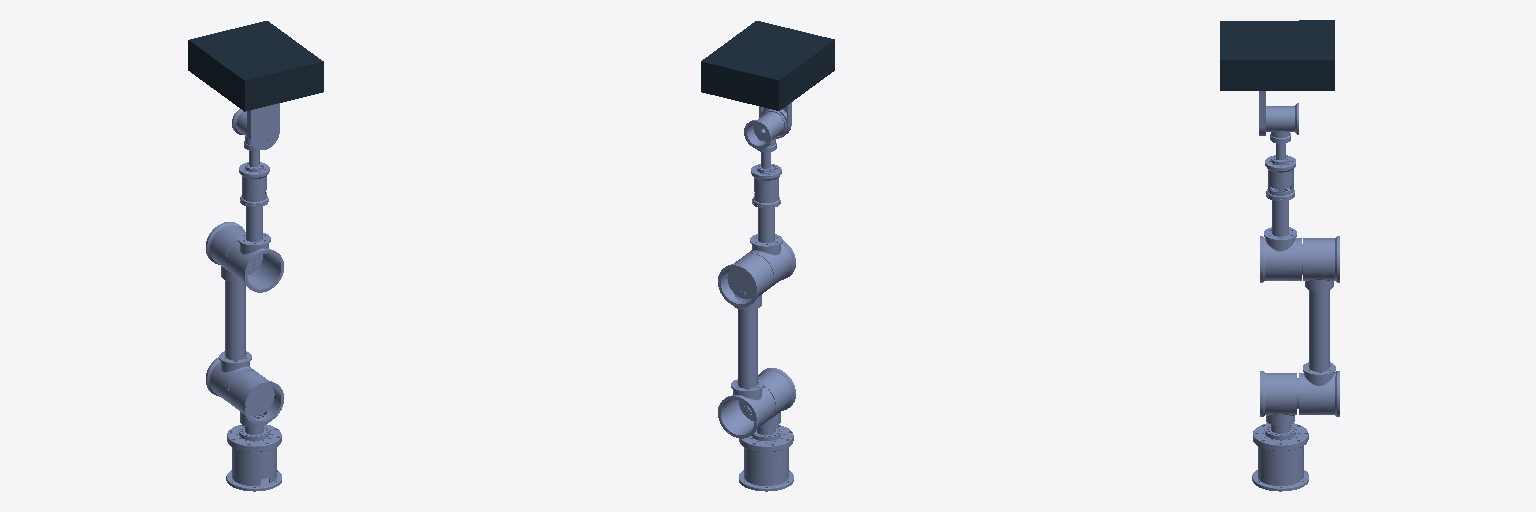
robot.urdf — Robot_to_URDF_New_Pakka:
<?xml version="1.0" ?>
<robot name="Robot_to_URDF_New_Pakka">
  <material name="Steel">
    <color rgba="0.541 0.596 0.749 1.0"/>
  </material>
  <material name="Stainless_Steel_304">
    <color rgba="0.541 0.596 0.749 1.0"/>
  </material>
  <link name="world"/>
  <joint name="world_to_base_link" type="fixed">
    <parent link="world"/>
    <child link="base_link"/>
    <origin rpy="0 0 0" xyz="0 0 0"/>
  </joint>
  <link name="J2J3_Shoulder">
    <inertial>
      <origin rpy="0 0 0" xyz="0.051916 -0.000049 0.158128"/>
      <mass value="3.446640"/>
      <inertia ixx="4.362083e-02" ixy="9.815616e-07" ixz="-1.144201e-03" iyy="4.371374e-02" iyz="1.314195e-05" izz="4.606072e-03"/>
    </inertial>
    <visual>
      <origin rpy="0 0 0" xyz="0.053972 0.000000 0.077000"/>
      <geometry>
        <mesh filename="package://Robot_to_URDF_New_Pakka_description/meshes/J3J4_Elbow/J2J3_Shoulder.dae" scale="1 1 1"/>
      </geometry>
      <material name="Steel"/>
    </visual>
    <collision>
      <origin rpy="0 0 0" xyz="0.053972 0.000000 0.077000"/>
      <geometry>
        <mesh filename="package://Robot_to_URDF_New_Pakka_description/meshes/J3J4_Elbow/J2J3_Shoulder_collision.stl" scale="0.01 0.01 0.01"/>
      </geometry>
    </collision>
  </link>
  <link name="L70IE_Finger">
    <inertial>
      <origin rpy="0 0 0" xyz="0.129200 -0.000053 0.034929"/>
      <mass value="1.714129"/>
      <inertia ixx="2.168825e-03" ixy="-1.977919e-06" ixz="-9.238266e-04" iyy="4.945738e-03" iyz="2.017023e-06" izz="4.814753e-03"/>
    </inertial>
    <visual>
      <origin rpy="0 0 0" xyz="0.109800 -0.000000 0.050000"/>
      <geometry>
        <mesh filename="package://Robot_to_URDF_New_Pakka_description/meshes/J6_holder/L70IE_Finger.dae" scale="1 1 1"/>
      </geometry>
      <material name="Stainless_Steel_304"/>
    </visual>
    <collision>
      <origin rpy="0 0 0" xyz="0.109800 -0.000000 0.050000"/>
      <geometry>
        <mesh filename="package://Robot_to_URDF_New_Pakka_description/meshes/J6_holder/L70IE_Finger_collision.stl" scale="0.01 0.01 0.01"/>
      </geometry>
    </collision>
  </link>
  <joint name="ee_rotation_joint" type="revolute">
    <parent link="L70IE_Finger"/>
    <child link="end_effector_box_link"/>
    <origin rpy="0 1.5708 0" xyz="0.150 0 0.050"/>
    <axis xyz="0 0 1"/>
    <limit effort="10.0" lower="-3.14159" upper="3.14159" velocity="3.14"/>
    <dynamics damping="1.0" friction="0.1"/>
  </joint>
  <link name="end_effector_box_link">
    <inertial>
      <origin rpy="0 0 0" xyz="0 0 0.050"/>
      <mass value="1.2"/>
      <inertia ixx="8.129e-03" ixy="0" ixz="0" iyy="1.182e-02" iyz="0" izz="1.795e-02"/>
    </inertial>
    <visual>
      <origin rpy="0 0 0" xyz="0 0 0.050"/>
      <geometry>
        <box size="0.329 0.267 0.100"/>
      </geometry>
      <material name="EE_Grey">
        <color rgba="0.17 0.23 0.29 0.9"/>
      </material>
    </visual>
    <collision>
      <origin rpy="0 0 0" xyz="0 0 0.050"/>
      <geometry>
        <box size="0.359 0.297 0.130"/>
      </geometry>
    </collision>
  </link>
  <link name="base_link">
    <inertial>
      <origin rpy="0 0 0" xyz="-0.000000 0.000148 0.020775"/>
      <mass value="10.528007"/>
      <inertia ixx="3.546454e-02" ixy="-3.583128e-11" ixz="-4.191711e-11" iyy="3.556442e-02" iyz="1.226315e-04" izz="2.879027e-02"/>
    </inertial>
    <visual>
      <origin rpy="0 0 0" xyz="0.000000 0.000000 0.000000"/>
      <geometry>
        <mesh filename="package://Robot_to_URDF_New_Pakka_description/meshes/Robot_Assembly_URDF_New/base_link.dae" scale="1 1 1"/>
      </geometry>
      <material name="Steel"/>
    </visual>
    <collision>
      <origin rpy="0 0 0" xyz="0.000000 0.000000 0.000000"/>
      <geometry>
        <mesh filename="package://Robot_to_URDF_New_Pakka_description/meshes/Robot_Assembly_URDF_New/base_link_collision.stl" scale="0.01 0.01 0.01"/>
      </geometry>
    </collision>
  </link>
  <link name="Wrist_Motor">
    <inertial>
      <origin rpy="0 0 0" xyz="0.010896 -0.000044 0.108189"/>
      <mass value="2.109552"/>
      <inertia ixx="4.701895e-03" ixy="-2.639002e-06" ixz="-5.009290e-04" iyy="5.708233e-03" iyz="2.609188e-06" izz="2.625985e-03"/>
    </inertial>
    <visual>
      <origin rpy="0 0 0" xyz="-0.015700 0.000000 0.130000"/>
      <geometry>
        <mesh filename="package://Robot_to_URDF_New_Pakka_description/meshes/Robot_Assembly_URDF_New/Wrist_Motor.dae" scale="1 1 1"/>
      </geometry>
      <material name="Stainless_Steel_304"/>
    </visual>
    <collision>
      <origin rpy="0 0 0" xyz="-0.015700 0.000000 0.130000"/>
      <geometry>
        <mesh filename="package://Robot_to_URDF_New_Pakka_description/meshes/Robot_Assembly_URDF_New/Wrist_Motor_collision.stl" scale="0.01 0.01 0.01"/>
      </geometry>
    </collision>
  </link>
  <link name="L110I_Shoulder">
    <inertial>
      <origin rpy="0 0 0" xyz="0.000000 -0.109833 0.011323"/>
      <mass value="6.625323"/>
      <inertia ixx="1.448067e-02" ixy="-1.914920e-08" ixz="-1.120154e-08" iyy="9.292438e-03" iyz="6.850439e-04" izz="1.576078e-02"/>
    </inertial>
    <visual>
      <origin rpy="0 0 0" xyz="-0.000000 -0.119000 -0.023000"/>
      <geometry>
        <mesh filename="package://Robot_to_URDF_New_Pakka_description/meshes/Robot_Assembly_URDF_New/L110I_Shoulder.dae" scale="1 1 1"/>
      </geometry>
      <material name="Steel"/>
    </visual>
    <collision>
      <origin rpy="0 0 0" xyz="-0.000000 -0.119000 -0.023000"/>
      <geometry>
        <mesh filename="package://Robot_to_URDF_New_Pakka_description/meshes/Robot_Assembly_URDF_New/L110I_Shoulder_collision.stl" scale="0.01 0.01 0.01"/>
      </geometry>
    </collision>
  </link>
  <link name="L110I_shoulder_2">
    <inertial>
      <origin rpy="0 0 0" xyz="-0.000000 0.332413 -0.045103"/>
      <mass value="9.267654"/>
      <inertia ixx="2.063923e-01" ixy="1.193072e-08" ixz="1.229002e-08" iyy="1.345004e-02" iyz="-4.638621e-03" izz="2.074487e-01"/>
    </inertial>
    <visual>
      <origin rpy="0 0 0" xyz="0.000000 0.426000 -0.076972"/>
      <geometry>
        <mesh filename="package://Robot_to_URDF_New_Pakka_description/meshes/Robot_Assembly_URDF_New/L110I_shoulder_2.dae" scale="1 1 1"/>
      </geometry>
      <material name="Steel"/>
    </visual>
    <collision>
      <origin rpy="0 0 0" xyz="0.000000 0.426000 -0.076972"/>
      <geometry>
        <mesh filename="package://Robot_to_URDF_New_Pakka_description/meshes/Robot_Assembly_URDF_New/L110I_shoulder_2_collision.stl" scale="0.01 0.01 0.01"/>
      </geometry>
    </collision>
  </link>
  <joint name="Revolute_1" type="continuous">
    <parent link="base_link"/>
    <child link="L110I_Shoulder"/>
    <origin rpy="-1.570796 0.000000 -0.000000" xyz="0.000000 0.000000 0.080000"/>
    <axis xyz="0.000000 1.000000 -0.000000"/>
    <limit effort="100.0" velocity="1.00"/>
    <dynamics damping="2.0" friction="0.2"/>
  </joint>
  <joint name="Revolute_2" type="continuous">
    <parent link="L110I_Shoulder"/>
    <child link="L110I_shoulder_2"/>
    <origin rpy="3.141593 0.000000 -0.000000" xyz="-0.000000 -0.119000 0.057000"/>
    <axis xyz="0.000000 -0.000000 1.000000"/>
    <limit effort="100.0" velocity="1.00"/>
    <dynamics damping="2.0" friction="0.2"/>
  </joint>
  <joint name="Revolute_3" type="continuous">
    <parent link="L110I_shoulder_2"/>
    <child link="J2J3_Shoulder"/>
    <origin rpy="-1.570796 -1.570796 0.000000" xyz="0.000000 0.426000 0.003028"/>
    <axis xyz="-1.000000 0.000000 -0.000000"/>
    <limit effort="100.0" velocity="1.00"/>
    <dynamics damping="2.0" friction="0.2"/>
  </joint>
  <joint name="Revolute_4" type="continuous">
    <parent link="J2J3_Shoulder"/>
    <child link="Wrist_Motor"/>
    <origin rpy="0.000000 0.000000 0.000000" xyz="0.053972 0.000000 0.314000"/>
    <axis xyz="-0.000000 0.000000 1.000000"/>
    <limit effort="100.0" velocity="1.00"/>
    <dynamics damping="2.0" friction="0.2"/>
  </joint>
  <joint name="Revolute_5" type="continuous">
    <parent link="Wrist_Motor"/>
    <child link="L70IE_Finger"/>
    <origin rpy="-0.000787 -1.570796 0.002101" xyz="0.059500 0.000000 0.130000"/>
    <axis xyz="-0.000000 0.000000 1.000000"/>
    <limit effort="100.0" velocity="1.00"/>
    <dynamics damping="2.0" friction="0.2"/>
  </joint>
  <ros2_control name="Robot_to_URDF_New_Pakka_system" type="system">
    <hardware>
      <plugin>gazebo_ros2_control/GazeboSystem</plugin>
    </hardware>
    <joint name="Revolute_1">
      <command_interface name="position"/>
      <command_interface name="velocity"/>
      <state_interface name="position">
        <param name="initial_value">0.0</param>
      </state_interface>
      <state_interface name="velocity"/>
      <state_interface name="effort"/>
    </joint>
    <joint name="Revolute_2">
      <command_interface name="position"/>
      <command_interface name="velocity"/>
      <state_interface name="position">
        <param name="initial_value">-0.5</param>
      </state_interface>
      <state_interface name="velocity"/>
      <state_interface name="effort"/>
    </joint>
    <joint name="Revolute_3">
      <command_interface name="position"/>
      <command_interface name="velocity"/>
      <state_interface name="position">
        <param name="initial_value">1.0</param>
      </state_interface>
      <state_interface name="velocity"/>
      <state_interface name="effort"/>
    </joint>
    <joint name="Revolute_4">
      <command_interface name="position"/>
      <command_interface name="velocity"/>
      <state_interface name="position">
        <param name="initial_value">0.0</param>
      </state_interface>
      <state_interface name="velocity"/>
      <state_interface name="effort"/>
    </joint>
    <joint name="Revolute_5">
      <command_interface name="position"/>
      <command_interface name="velocity"/>
      <state_interface name="position">
        <param name="initial_value">-0.5</param>
      </state_interface>
      <state_interface name="velocity"/>
      <state_interface name="effort"/>
    </joint>
    <joint name="ee_rotation_joint">
      <command_interface name="position"/>
      <command_interface name="velocity"/>
      <state_interface name="position">
        <param name="initial_value">0.0</param>
      </state_interface>
      <state_interface name="velocity"/>
      <state_interface name="effort"/>
    </joint>
  </ros2_control>
  <gazebo>
    <plugin filename="libgazebo_ros2_control.so" name="gazebo_ros2_control">
      <parameters>/home/saad/kerabot_ws/install/kerabot_moveit_config/share/kerabot_moveit_config/config/ros2_controllers.yaml</parameters>
      <robot_param>robot_description</robot_param>
      <robot_param_node>robot_state_publisher</robot_param_node>
    </plugin>
  </gazebo>
  <gazebo reference="base_link">
    <mu1>0.8</mu1>
    <mu2>0.8</mu2>
    <kp>1000000.0</kp>
    <kd>1.0</kd>
    <material>Gazebo/Grey</material>
  </gazebo>
  <gazebo reference="L110I_Shoulder">
    <mu1>0.8</mu1>
    <mu2>0.8</mu2>
    <material>Gazebo/Grey</material>
  </gazebo>
  <gazebo reference="L110I_shoulder_2">
    <mu1>0.8</mu1>
    <mu2>0.8</mu2>
    <material>Gazebo/Grey</material>
  </gazebo>
  <gazebo reference="J2J3_Shoulder">
    <mu1>0.8</mu1>
    <mu2>0.8</mu2>
    <material>Gazebo/Grey</material>
  </gazebo>
  <gazebo reference="Wrist_Motor">
    <mu1>0.8</mu1>
    <mu2>0.8</mu2>
    <material>Gazebo/Grey</material>
  </gazebo>
  <gazebo reference="L70IE_Finger">
    <mu1>0.8</mu1>
    <mu2>0.8</mu2>
    <material>Gazebo/Green</material>
  </gazebo>
  <gazebo reference="end_effector_box_link">
    <mu1>1.2</mu1>
    <mu2>1.2</mu2>
    <kp>1000000.0</kp>
    <kd>1.0</kd>
    <material>Gazebo/DarkGrey</material>
  </gazebo>
</robot>

--- Render facts (derived) ---
Views: 3 orthographic renders of the robot side by side, from view 1: azimuth 30°, elevation 25°; view 2: azimuth 150°, elevation 25°; view 3: azimuth 270°, elevation 25°.
Robot: Robot_to_URDF_New_Pakka — 8 links, 7 joints (1 revolute, 5 continuous, 1 fixed); root link world; default pose: all joints at 0.
Visible links, largest first — view 1: end_effector_box_link, L110I_shoulder_2, J2J3_Shoulder, base_link, L110I_Shoulder, L70IE_Finger, Wrist_Motor; view 2: end_effector_box_link, L110I_shoulder_2, J2J3_Shoulder, base_link, Wrist_Motor, L110I_Shoulder; view 3: end_effector_box_link, L110I_shoulder_2, J2J3_Shoulder, base_link, L110I_Shoulder, Wrist_Motor.
Boxes of the visible links, x1,y1,x2,y2 form: end_effector_box_link: (188,21,323,111); L110I_shoulder_2: (206,222,254,405); J2J3_Shoulder: (226,162,283,292); base_link: (226,425,281,491); L110I_Shoulder: (228,371,283,438); L70IE_Finger: (247,103,279,149); Wrist_Motor: (232,109,263,170); end_effector_box_link: (701,21,834,110); L110I_shoulder_2: (718,254,775,438); J2J3_Shoulder: (746,164,795,288); base_link: (739,425,793,491); Wrist_Motor: (744,109,786,171); L110I_Shoulder: (752,368,795,438); end_effector_box_link: (1220,20,1334,90); L110I_shoulder_2: (1299,236,1339,416); J2J3_Shoulder: (1260,155,1301,282); base_link: (1252,423,1308,491); L110I_Shoulder: (1260,371,1298,437); Wrist_Motor: (1266,103,1298,163).
Bounding box of the posed robot: 0.2674 × 0.3441 × 1.39 m (x, y, z).
6 mesh visuals loaded from 6 distinct referenced files (6 Collada DAE).
